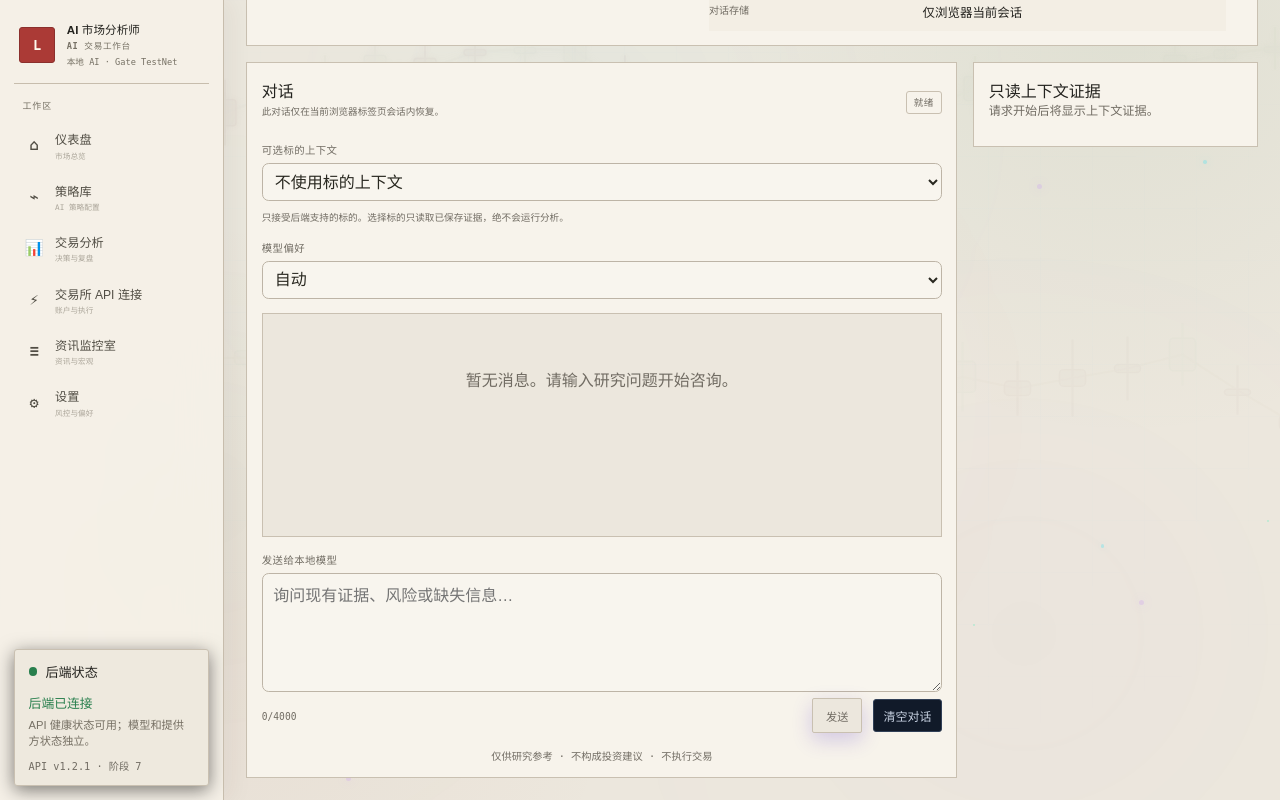
Test case: QwenConsultPage › uses the selected Chinese language for UI and the server-owned prompt request
The width and height of the screenshot is (1280, 800).
(page scrolled)
Type "请解释当前证据" into the text box labelled "发送给本地模型". click: (602, 632)
box: [262,573,942,692]
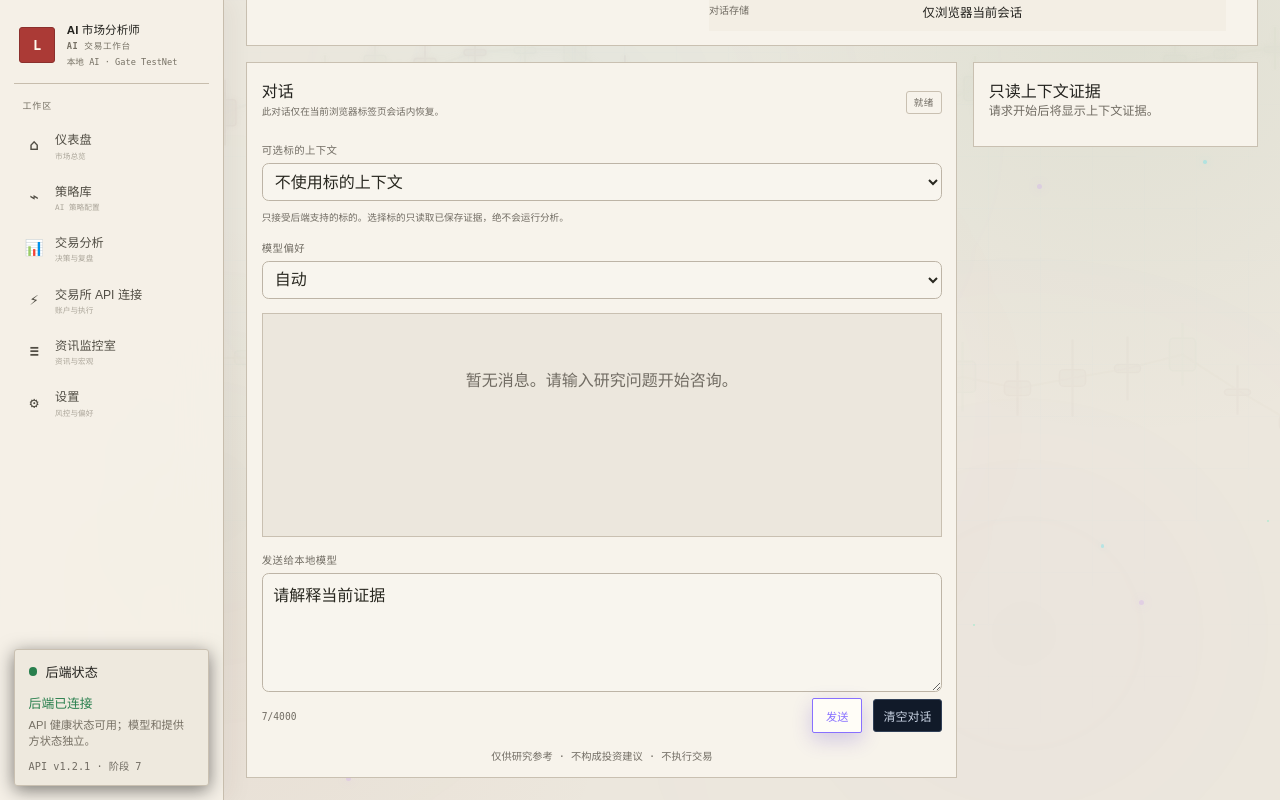
Click the button "发送". click: (837, 716)
box: [812,698,862,733]
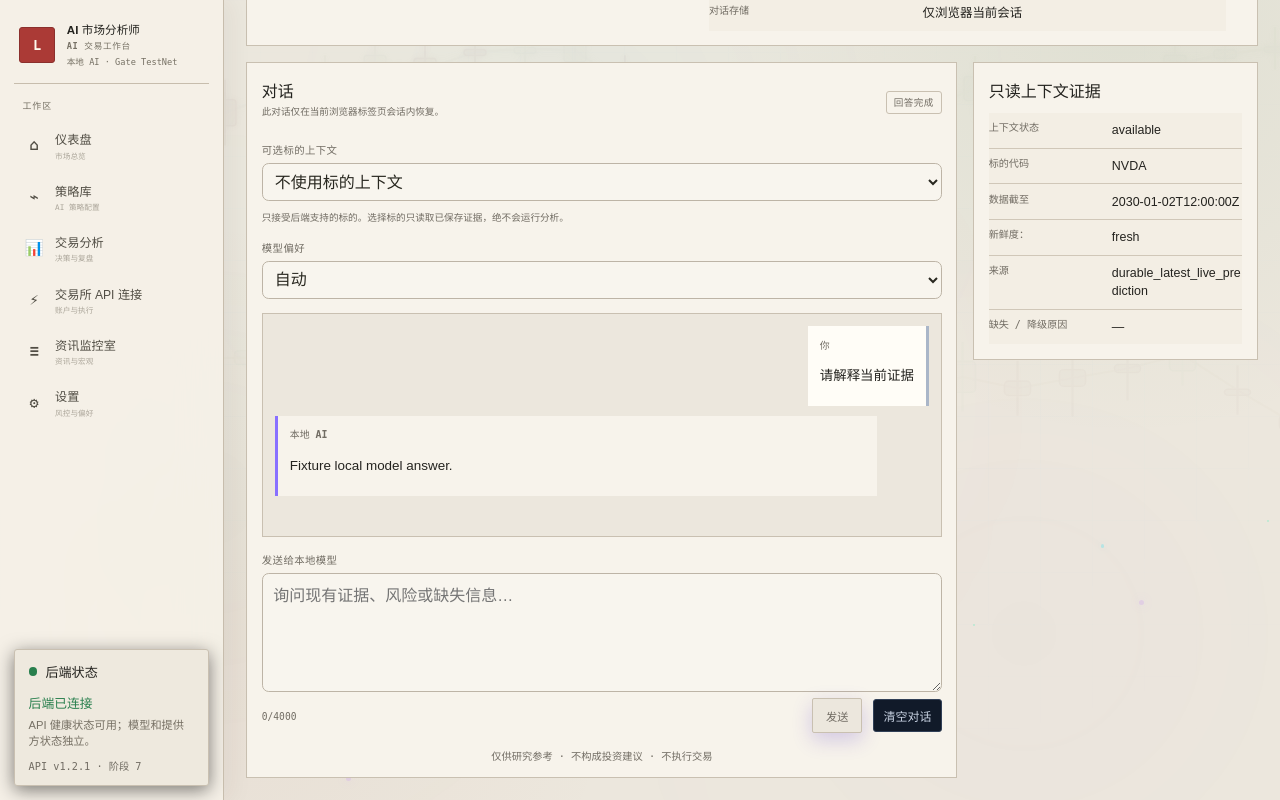
Now the text "Fixture local model answer." is shown, box [290,458,453,472]
